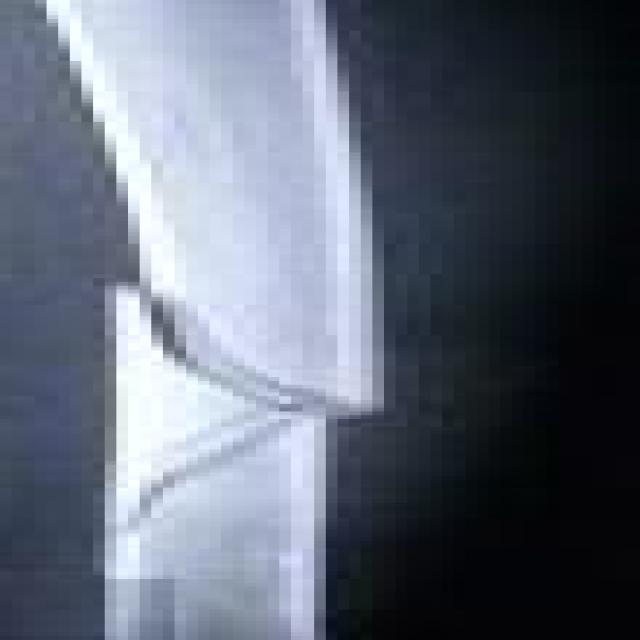Broken: (40, 4, 367, 416), (100, 299, 342, 635)
